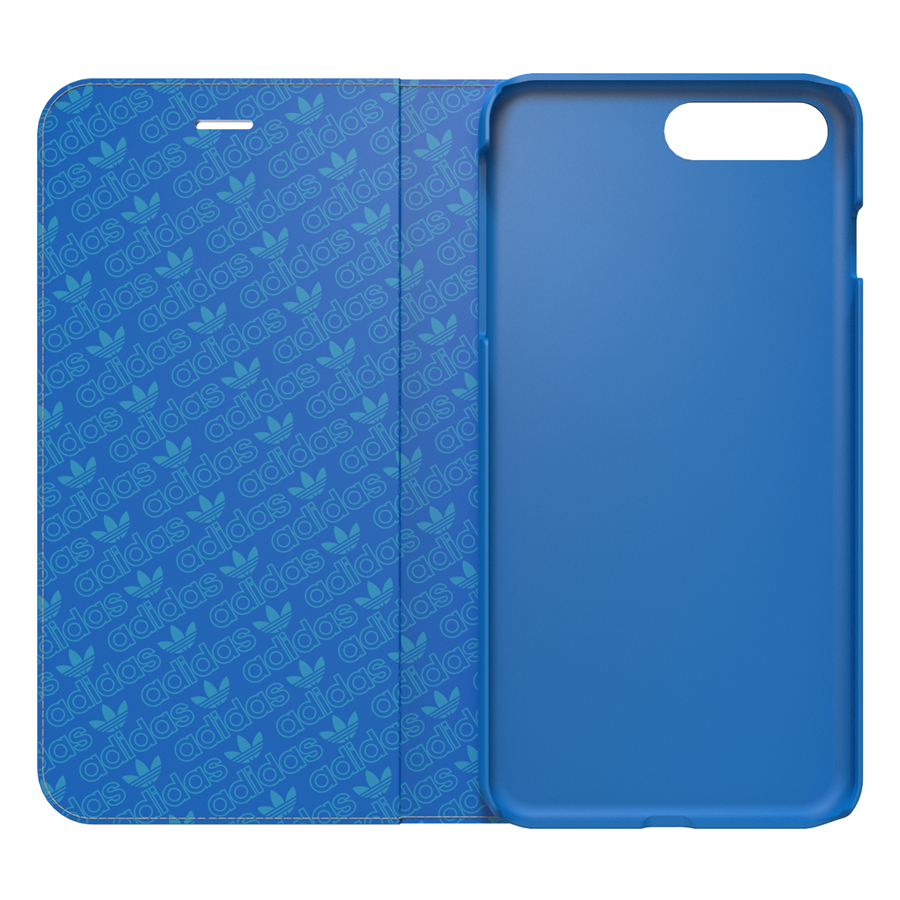Adidas: (169, 484, 296, 575), (165, 506, 174, 509)
